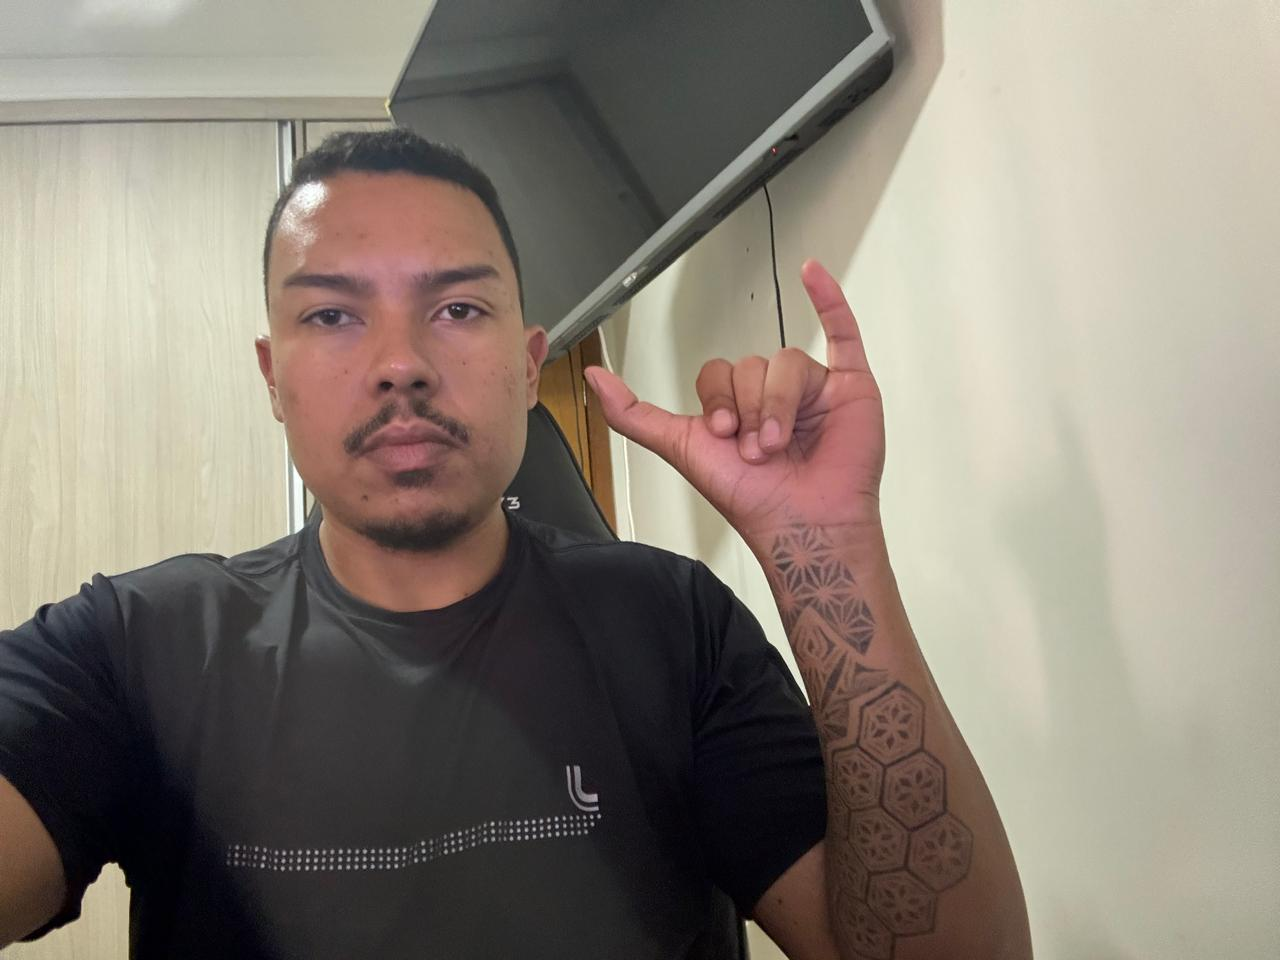y: (575, 251, 897, 542)
